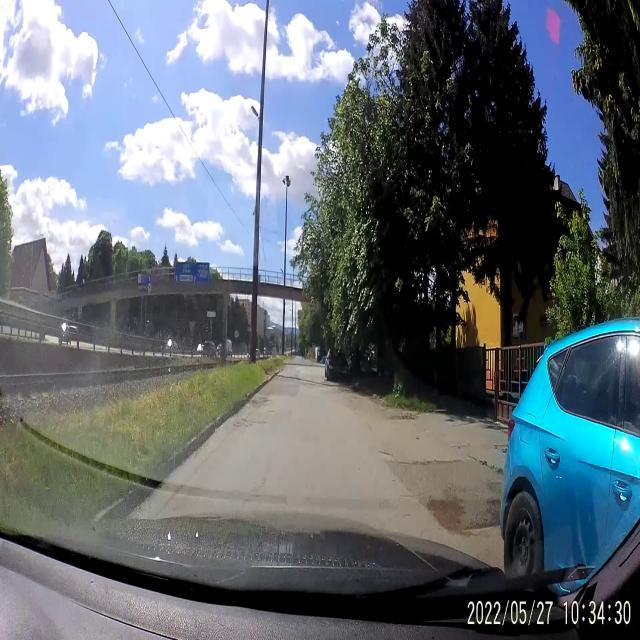Pothole: (377, 442, 397, 469), (230, 418, 264, 431), (466, 450, 488, 470), (250, 395, 274, 413), (385, 413, 418, 424), (493, 442, 506, 452)
